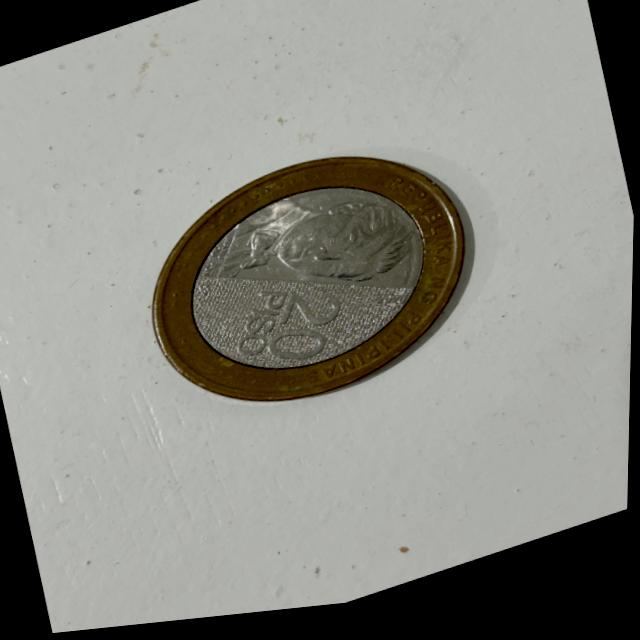20_New_Front: (227, 265, 370, 383)
